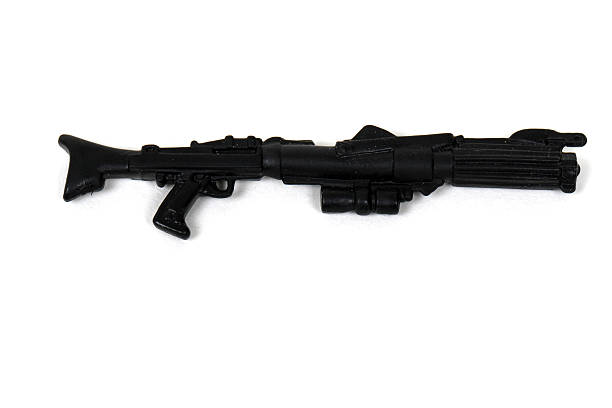rifle: (50, 125, 596, 241)
